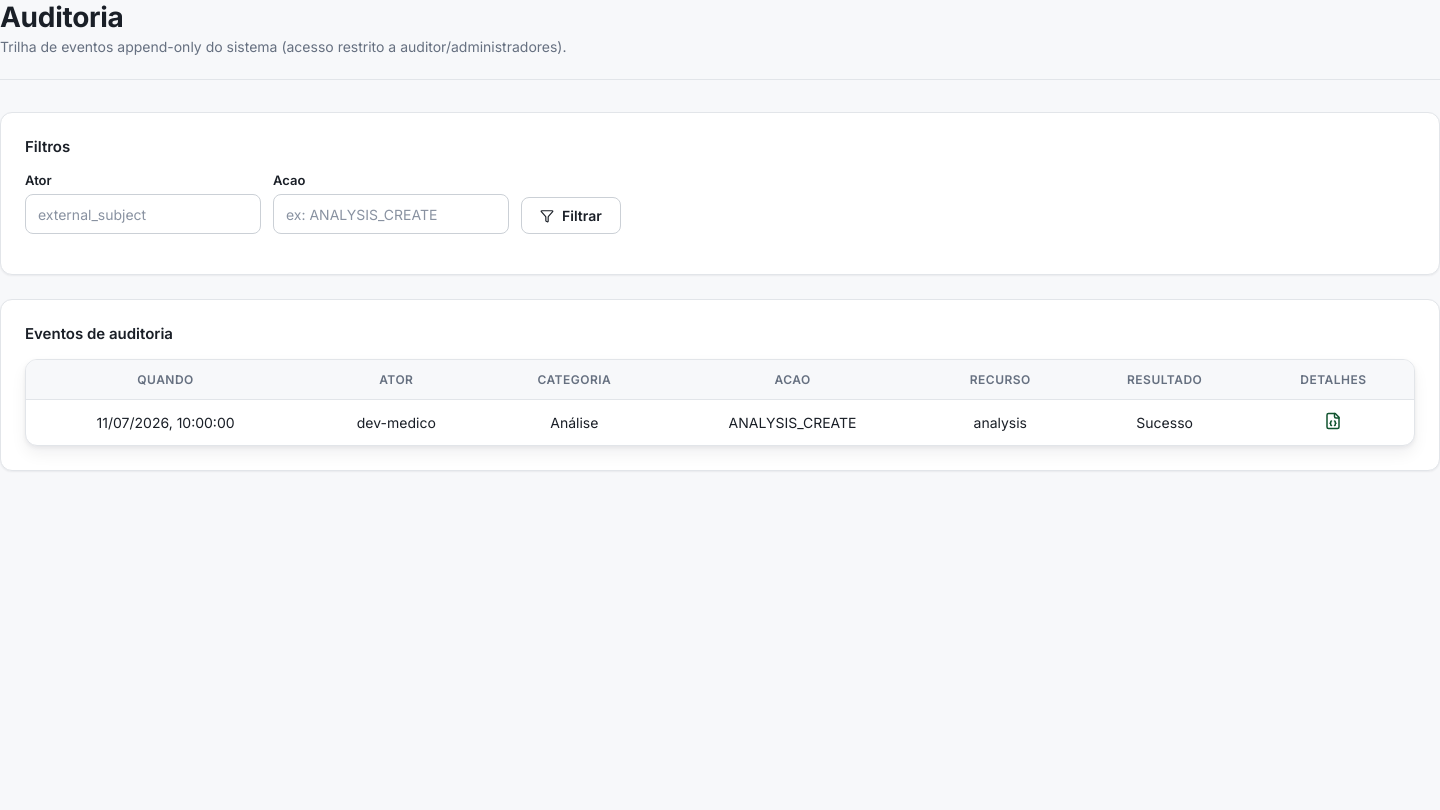
Test case: AuditPage › abre o popup de detalhes com o JSON completo do evento ao clicar no icone
Click the button named "ver detalhes completos em json do evento 42".
click(1333, 421)  # box [1324, 412, 1342, 430]
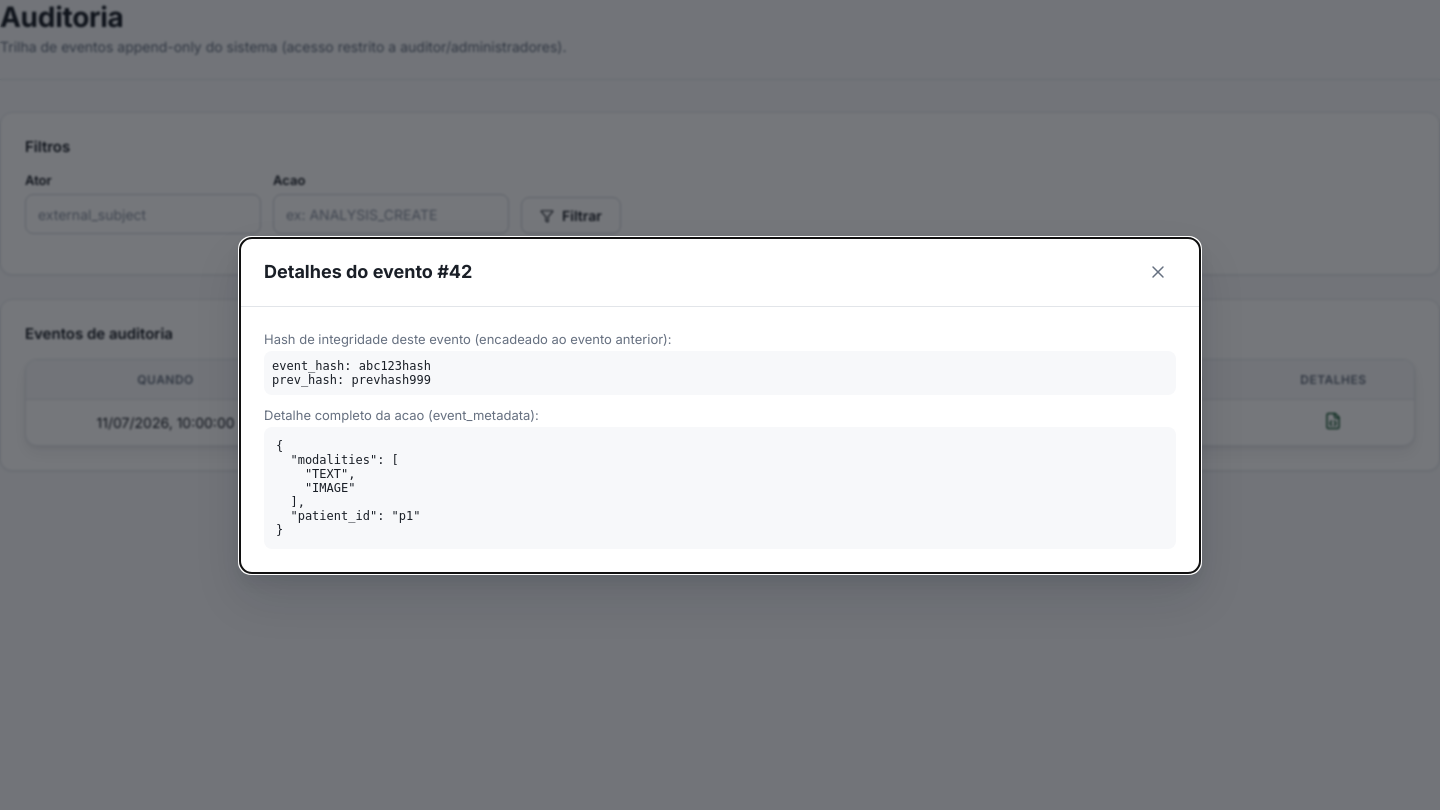
Expected: the heading "Detalhes do evento #42" is shown, [264, 261, 472, 282]
Expected: the text "abc123hash" is shown, [359, 358, 431, 372]
Expected: the text "prevhash999" is shown, [352, 372, 431, 386]
